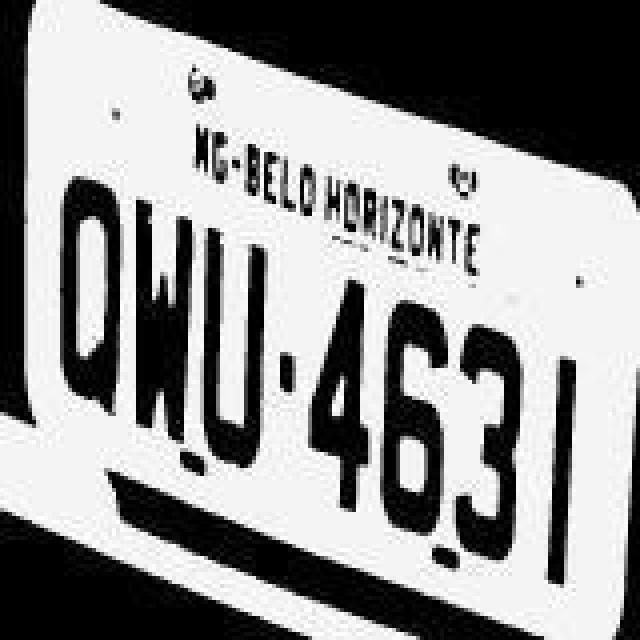1: (530, 354, 590, 590)
3: (448, 318, 528, 570)
4: (300, 264, 372, 528)
6: (376, 288, 456, 544)
Q: (50, 170, 126, 430)
U: (196, 220, 268, 476)
W: (128, 192, 200, 448)
